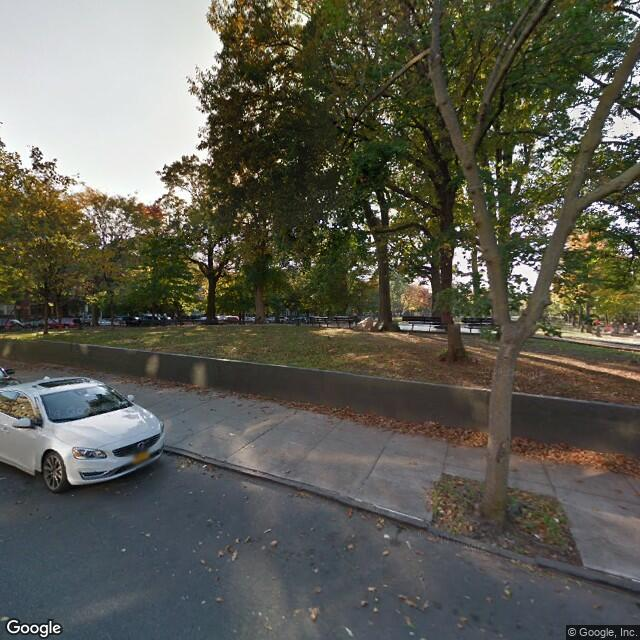litter: (546, 513, 566, 526)
